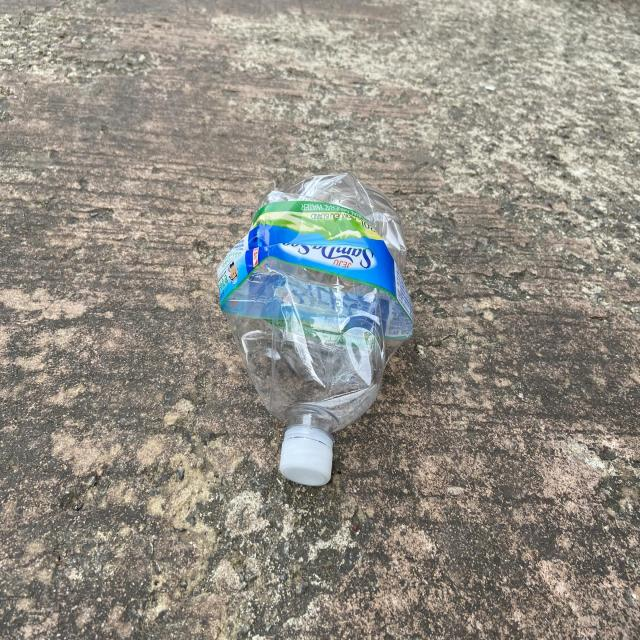plastic: (217, 172, 413, 486)
